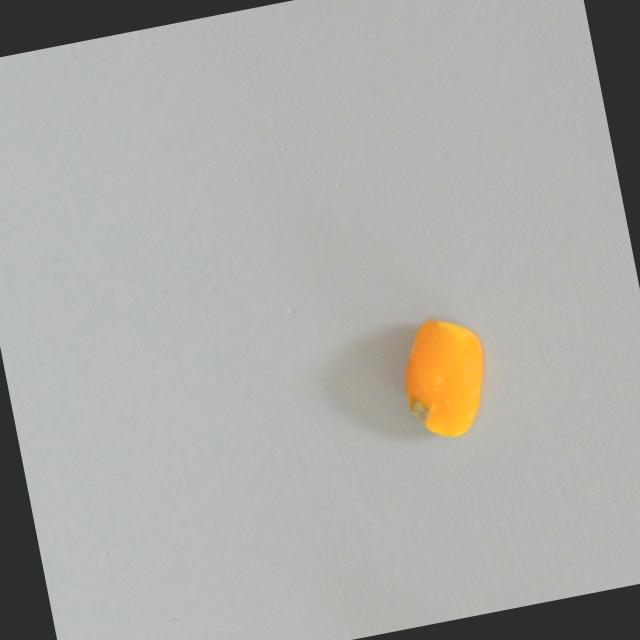dañado: (373, 294, 510, 452)
